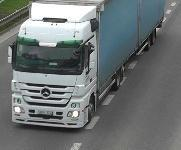Truck: (7, 1, 165, 129)
